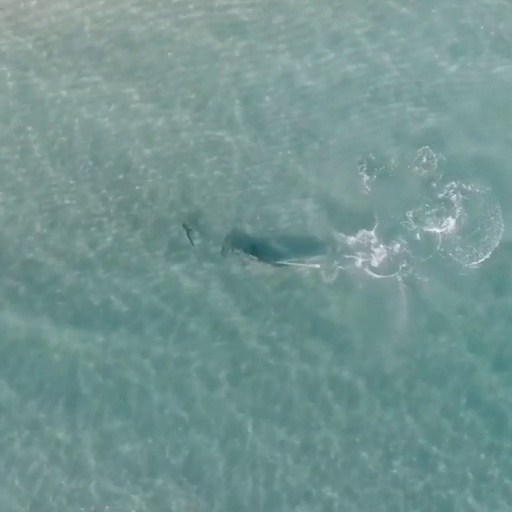shark: (220, 233, 298, 275)
